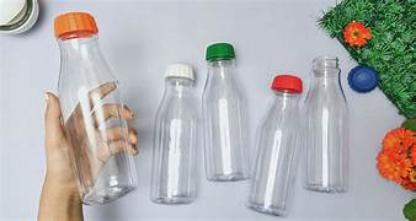Plastic Bottle: (124, 41, 344, 215), (23, 6, 139, 216), (314, 0, 414, 124), (376, 125, 414, 203)
